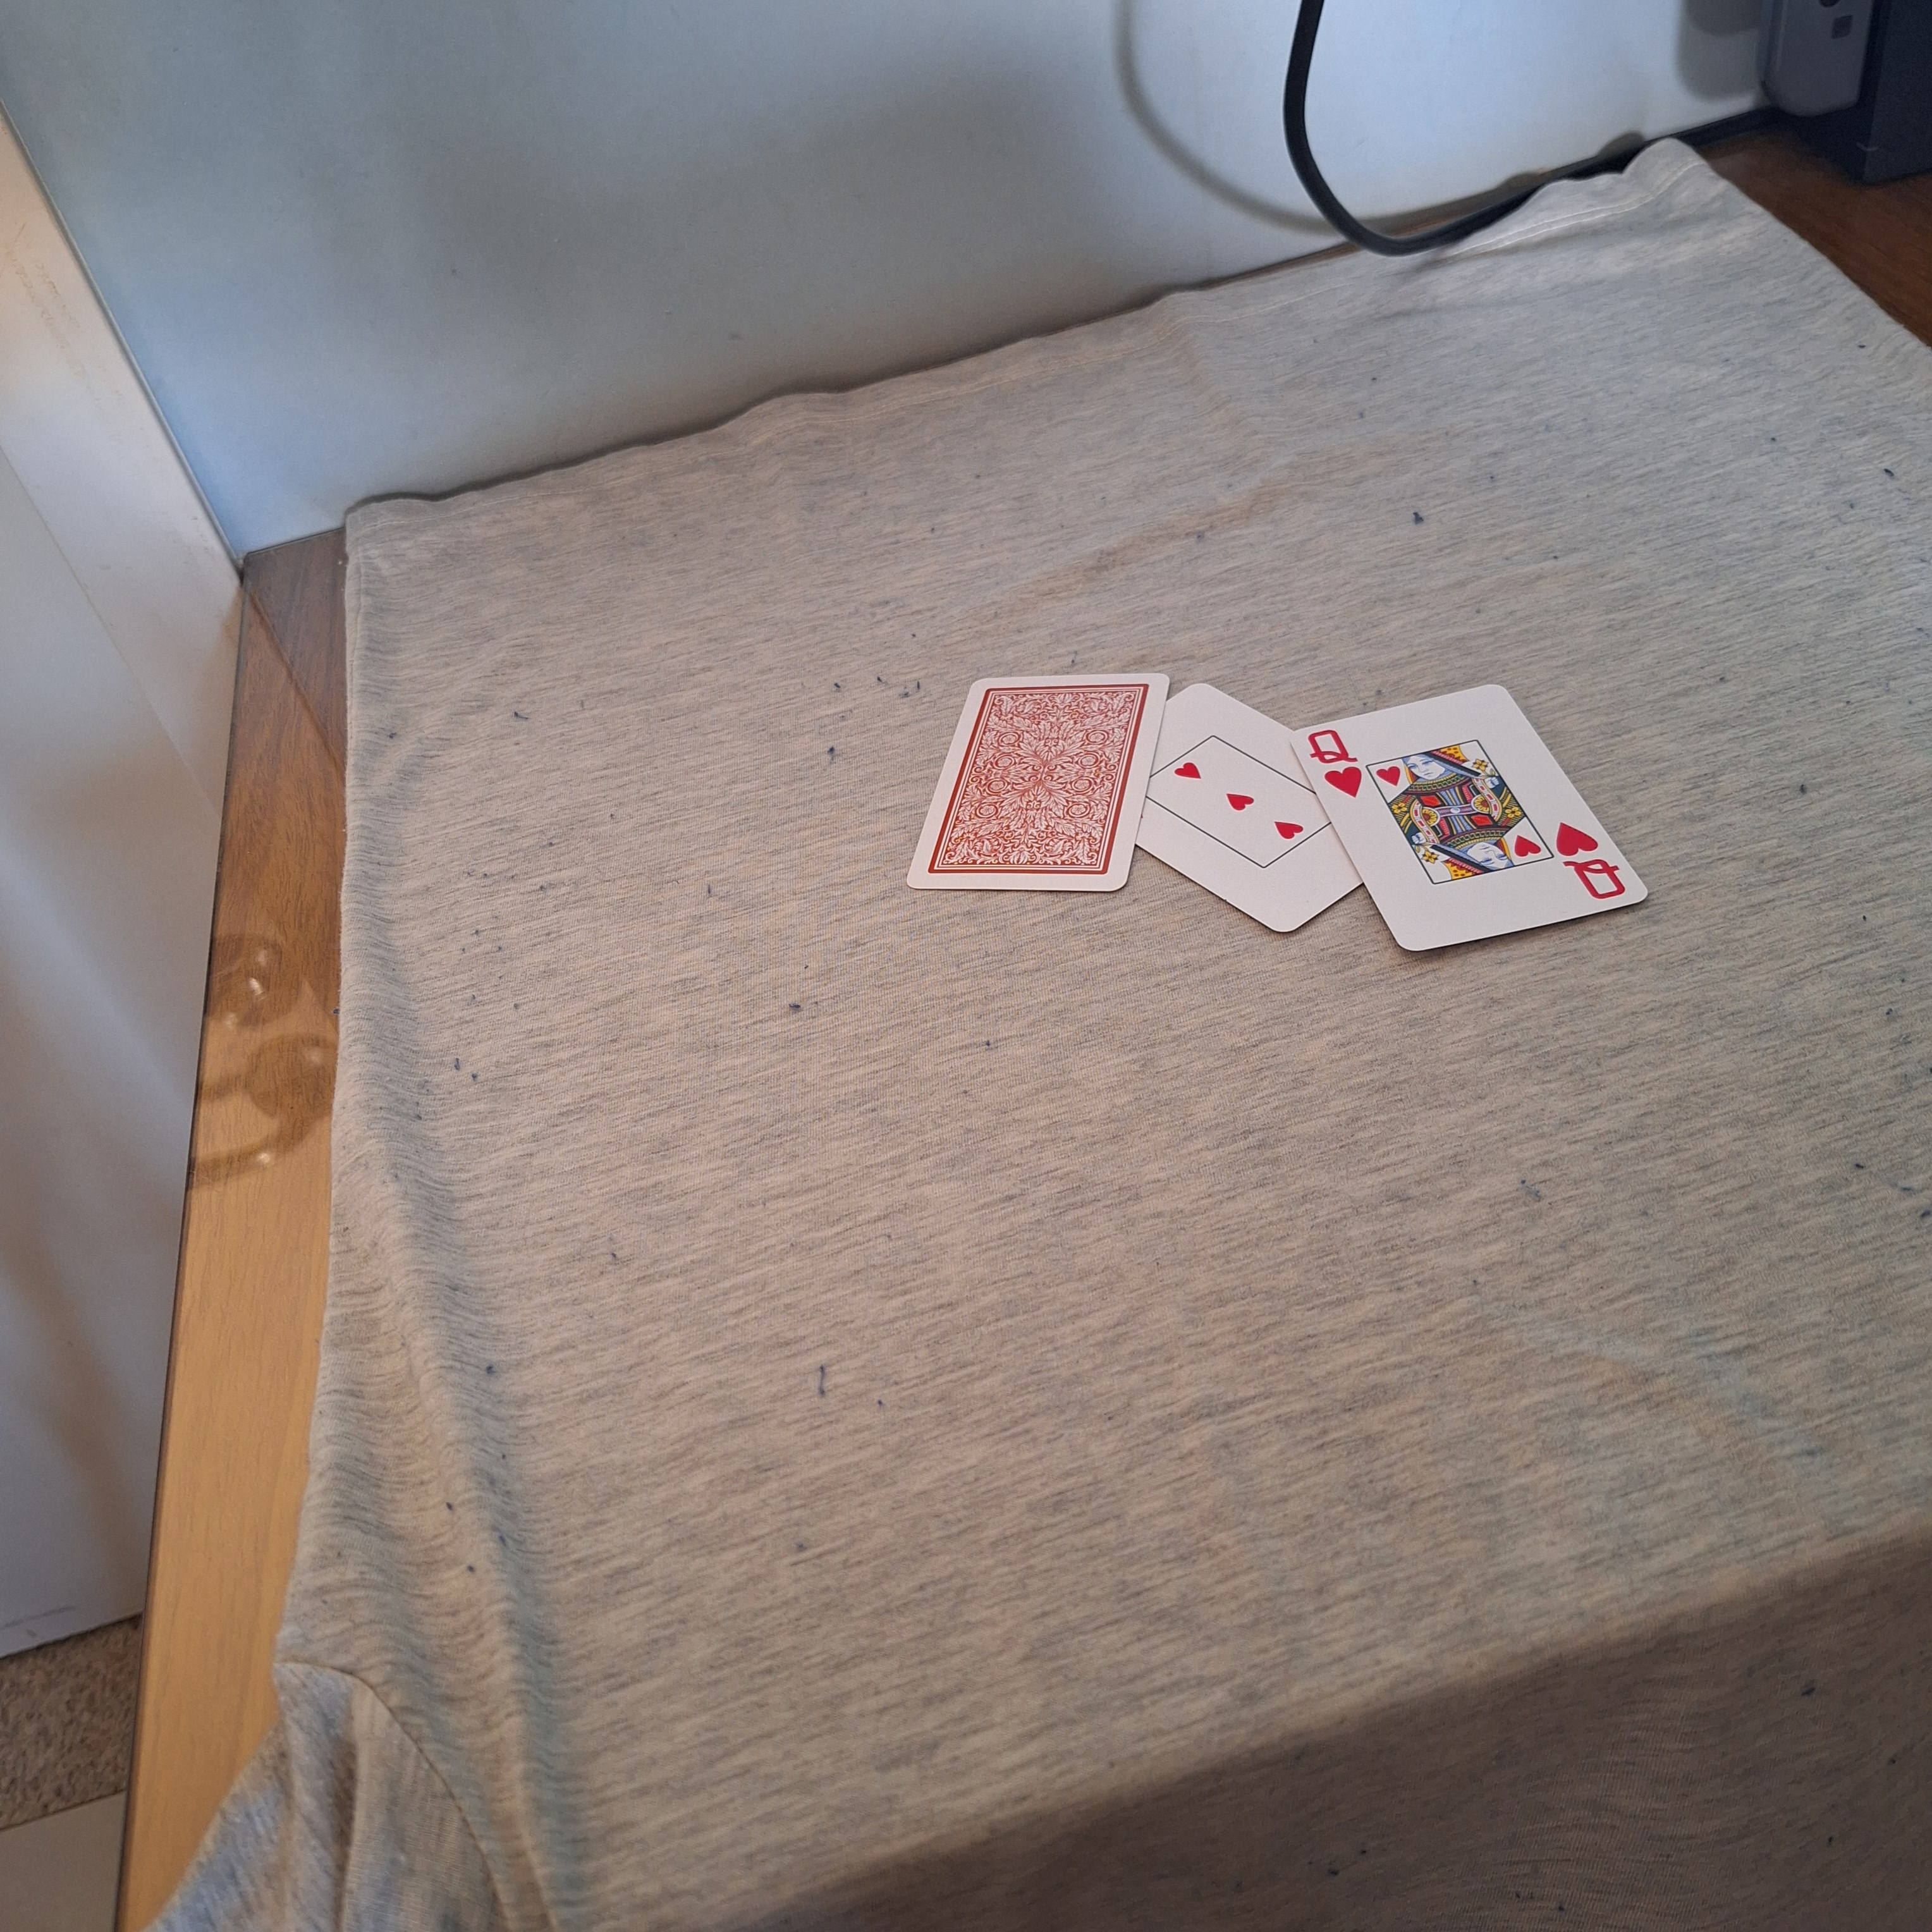QC: (1548, 812, 1635, 904), (1300, 725, 1373, 800)
